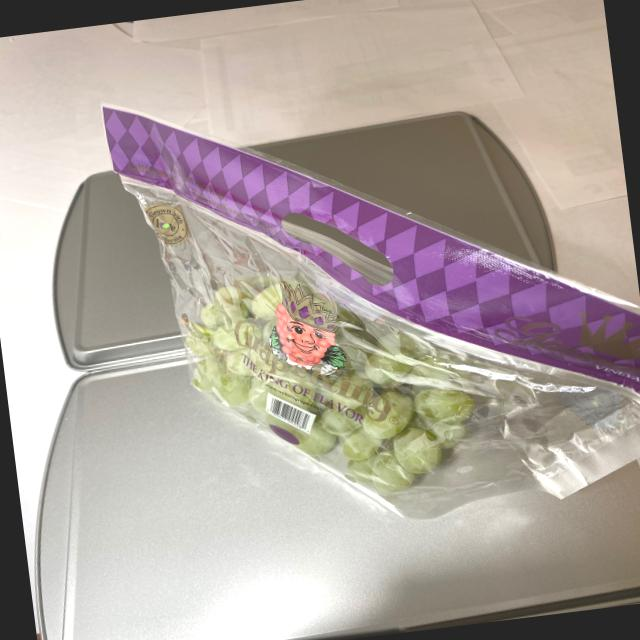grapes: (183, 240, 484, 522)
